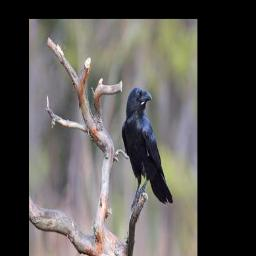Crow: (121, 85, 174, 209)
